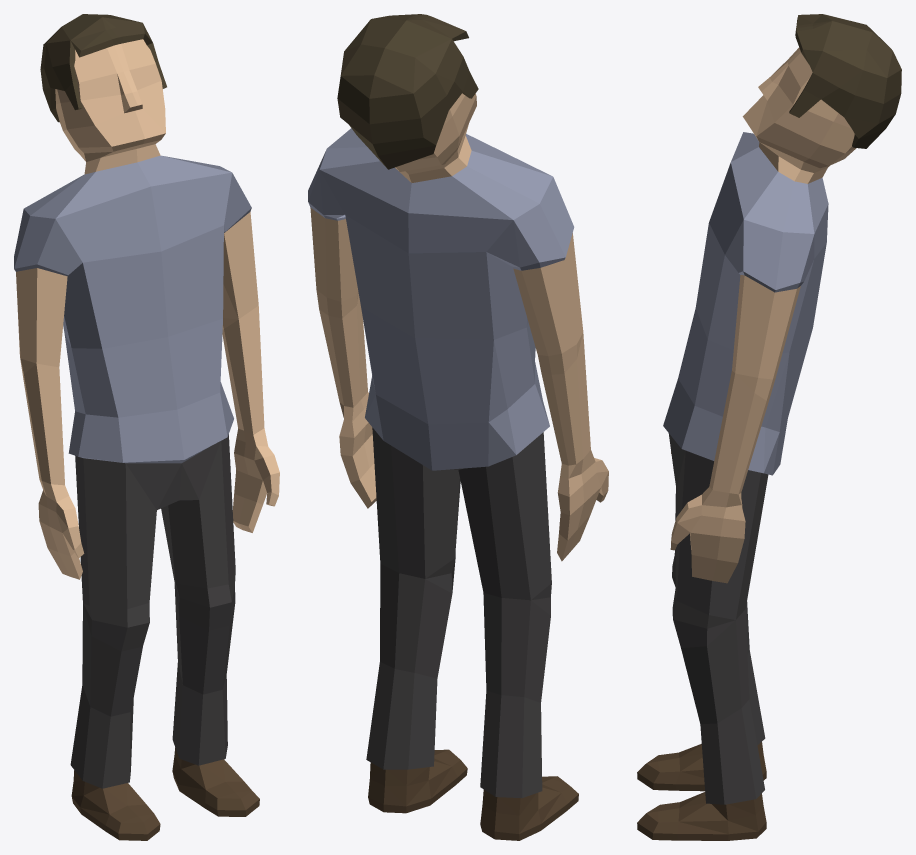
The model's file is Male_Crowd_LeaningBack.glb.
The picture shows the model from 3 angles, left to right: view 1: azimuth 30°, elevation 25°; view 2: azimuth 150°, elevation 25°; view 3: azimuth 270°, elevation 25°; orthographic projection. The views are drawn at different scales.
Visible parts, largest first — view 1: Male_Crowd_LeaningBack; view 2: Male_Crowd_LeaningBack; view 3: Male_Crowd_LeaningBack.
Boxes of the visible parts, left/top/right/bottom form: Male_Crowd_LeaningBack: left=14, top=14, right=279, bottom=840; Male_Crowd_LeaningBack: left=308, top=14, right=608, bottom=840; Male_Crowd_LeaningBack: left=637, top=14, right=901, bottom=840.
Bounding box in the file's own units: 0.5758 × 1.76 × 0.5404.
